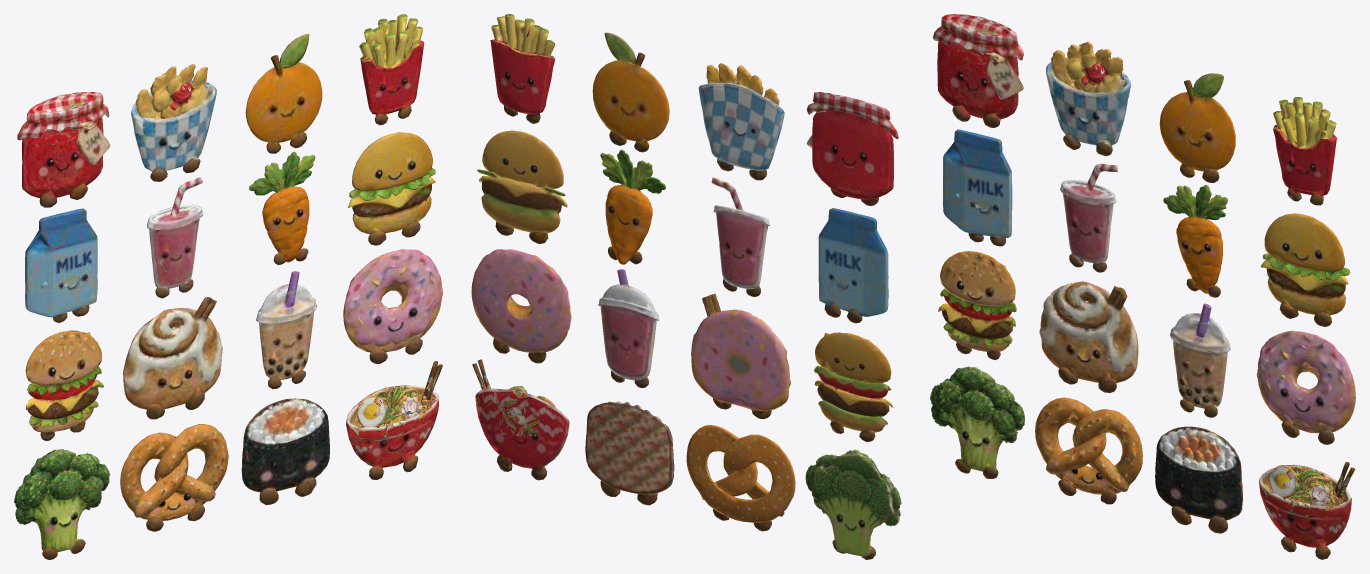
The picture shows the model from 3 angles, left to right: view 1: azimuth 30°, elevation 25°; view 2: azimuth 150°, elevation 25°; view 3: azimuth 330°, elevation 25°; orthographic projection.
Parts seen in each view (by area): view 1: Mesh 6, Mesh 13, Mesh 2, Mesh 5, Mesh 15, Mesh 9, Mesh 7, Mesh 4, Mesh 1, Mesh 3, Mesh 14, Mesh 10 (+4 smaller); view 2: Mesh 6, Mesh 13, Mesh 2, Mesh 5, Mesh 15, Mesh 9, Mesh 7, Mesh 4, Mesh 1, Mesh 3, Mesh 14, Mesh 10 (+4 smaller); view 3: Mesh 6, Mesh 13, Mesh 2, Mesh 5, Mesh 15, Mesh 9, Mesh 7, Mesh 4, Mesh 3, Mesh 1, Mesh 14, Mesh 10 (+4 smaller).
Boxes of the visible parts, box(x1,y1,x2,y2) form: Mesh 6: box(123, 297, 222, 419); Mesh 13: box(343, 249, 442, 363); Mesh 2: box(17, 92, 110, 207); Mesh 5: box(120, 424, 228, 531); Mesh 15: box(348, 132, 435, 245); Mesh 9: box(241, 398, 329, 504); Mesh 7: box(131, 64, 216, 181); Mesh 4: box(25, 208, 97, 322); Mesh 1: box(14, 449, 109, 559); Mesh 3: box(25, 330, 103, 440); Mesh 14: box(346, 361, 442, 479); Mesh 10: box(245, 34, 322, 153); Mesh 6: box(691, 293, 791, 419); Mesh 13: box(471, 249, 571, 363); Mesh 2: box(806, 92, 898, 205); Mesh 5: box(686, 425, 795, 531); Mesh 15: box(477, 130, 567, 243); Mesh 9: box(585, 401, 674, 505); Mesh 7: box(698, 63, 784, 180); Mesh 4: box(818, 208, 888, 323); Mesh 1: box(805, 449, 901, 559); Mesh 3: box(814, 332, 893, 441); Mesh 14: box(472, 359, 569, 480); Mesh 10: box(592, 32, 669, 152); Mesh 6: box(1039, 281, 1138, 392); Mesh 13: box(1256, 330, 1355, 444); Mesh 2: box(932, 14, 1023, 127); Mesh 5: box(1035, 397, 1142, 504); Mesh 15: box(1260, 213, 1350, 326); Mesh 9: box(1155, 426, 1242, 533); Mesh 7: box(1046, 41, 1130, 156); Mesh 4: box(943, 129, 1012, 246); Mesh 3: box(938, 251, 1016, 359); Mesh 1: box(930, 366, 1024, 478); Mesh 14: box(1259, 462, 1355, 559); Mesh 10: box(1159, 73, 1235, 182).
Size of the model in its own units: 1.84 by 1.9 by 0.0614.
Materials: 16 (16 with a texture image).
